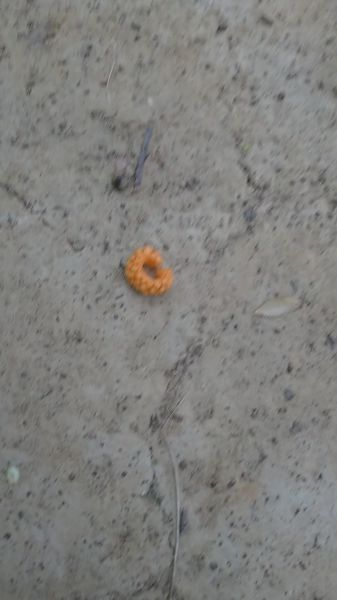eggs: (124, 245, 180, 300)
